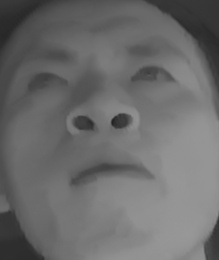eye: (129, 56, 177, 94), (25, 67, 74, 99)
mouth: (64, 146, 156, 195)
